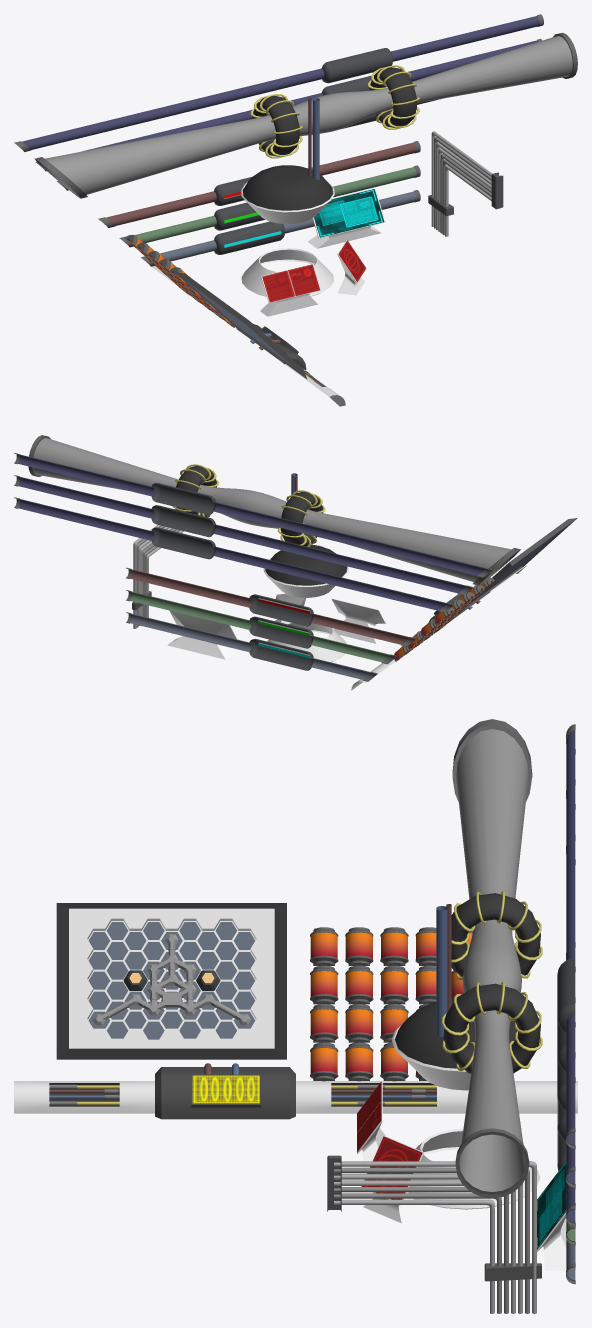
File: Engineering_Dressing.fbx
3 renders of one model, top to bottom at view 1: azimuth 30°, elevation 25°; view 2: azimuth 150°, elevation 25°; view 3: azimuth 270°, elevation 25°, orthographic. The views are drawn at different scales.
Parts seen in each view (by area): view 1: Engineering_Dressing; view 2: Engineering_Dressing; view 3: Engineering_Dressing.
Part boxes in pixels (x1=…): Engineering_Dressing: x1=14, y1=14, x2=577, y2=406; Engineering_Dressing: x1=14, y1=435, x2=577, y2=690; Engineering_Dressing: x1=14, y1=719, x2=577, y2=1313.
Bounding box in the file's own units: 68.83 × 22.83 × 40.09.
1 material, 1 textured.
